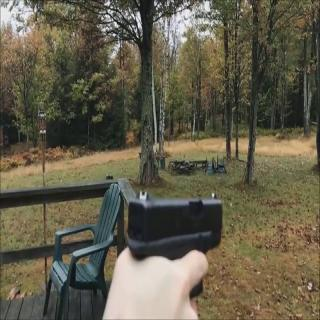gun: (108, 186, 222, 319)
